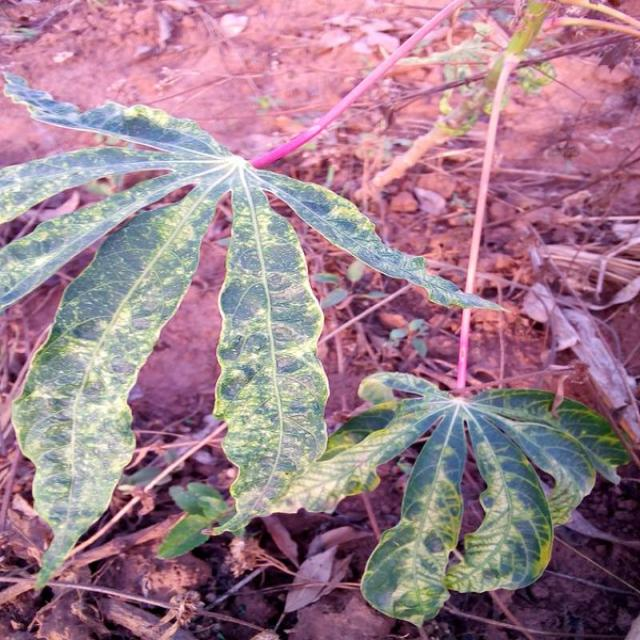cassava leaf: (1, 68, 514, 589), (10, 173, 228, 590), (213, 165, 332, 527)
